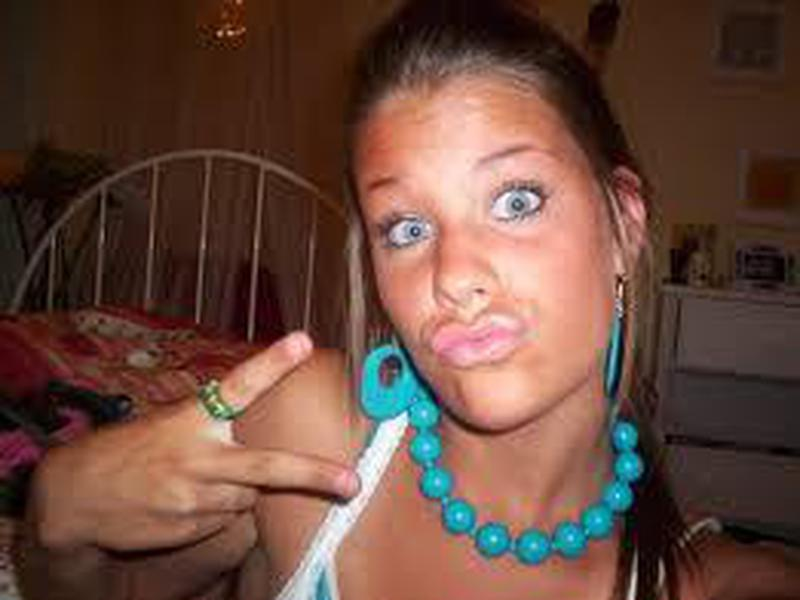without_mask: (349, 101, 611, 433)
